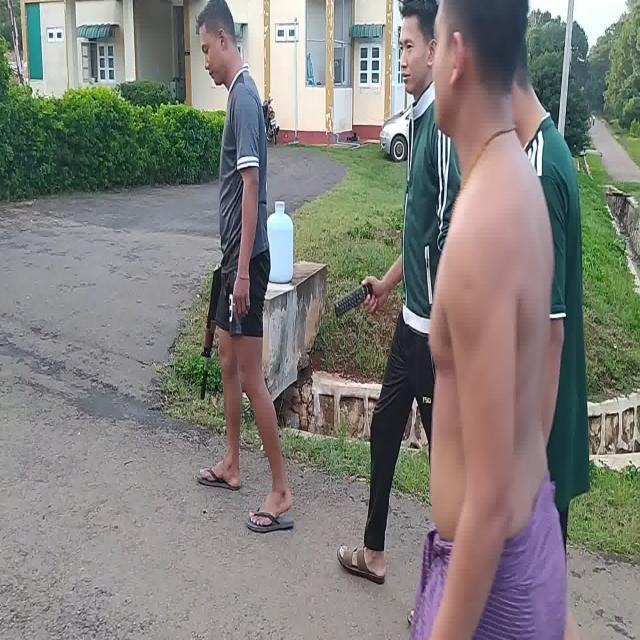gun: (200, 266, 223, 400)
